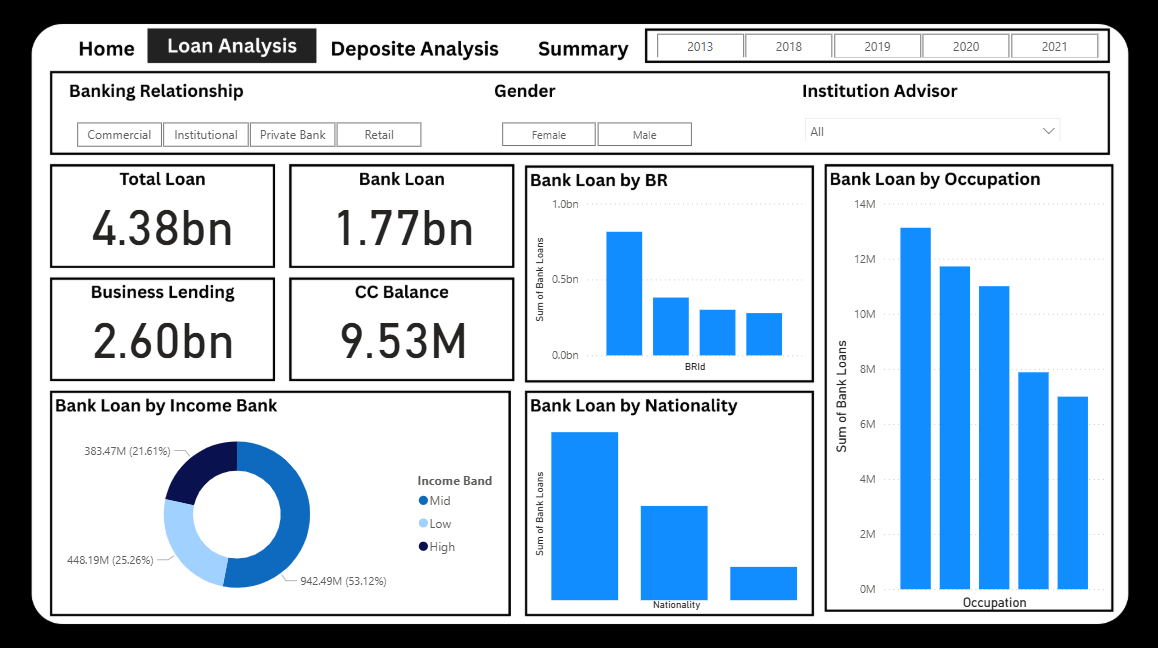

Layout of this report page (visuals, bound fields, positions):
{"tool":"powerbi","page":{"name":"Loan Analysis","canvas":[1280,720],"ordinal":1},"visuals":[{"type":"card","fields":{"Values":["Banking_Clients.Total Loan"]},"box":[60.3,213.5,242.5,66.4],"z":0},{"type":"card","fields":{"Values":["Sum(Banking_Clients.Bank Loans)"]},"box":[325.7,213.5,241.3,66.4],"z":1000},{"type":"card","fields":{"Values":["Sum(Banking_Clients.Business Lending)"]},"box":[61.5,339,241.3,66.4],"z":2000},{"type":"card","fields":{"Values":["Sum(Banking_Clients.Credit Card Balance)"]},"box":[325.7,339,241.3,66.4],"z":3000},{"type":"slicer","fields":{"Values":["Banking_Clients.Year of Joining"]},"box":[698.5,35,534.5,32.6],"z":4000},{"type":"donutChart","fields":{"Category":["Banking_Clients.Income Band"],"Y":["Sum(Banking_Clients.Bank Loans)"]},"box":[60.4,459.7,506.3,219.6],"z":5000},{"type":"clusteredColumnChart","fields":{"Category":["Banking_Clients.BRId"],"Y":["Sum(Banking_Clients.Bank Loans)"]},"box":[585.9,214.1,303.3,204.5],"z":6000},{"type":"clusteredColumnChart","fields":{"Category":["Banking_Clients.Nationality"],"Y":["Sum(Banking_Clients.Bank Loans)"]},"box":[586.3,459.7,302.8,219.6],"z":7000},{"type":"clusteredColumnChart","fields":{"Category":["Banking_Clients.Occupation"],"Y":["Sum(Banking_Clients.Bank Loans)"]},"box":[913.9,214.1,307.4,465.2],"z":8000},{"type":"actionButton","box":[358.1,34.3,208.6,39.8],"z":9000},{"type":"actionButton","box":[79.6,34.3,82.3,39.8],"z":10000},{"type":"actionButton","box":[588.7,35.7,109.8,39.8],"z":11000},{"type":"slicer","fields":{"Values":["Banking_Clients.BRId"]},"box":[61.5,131.5,428.3,36.2],"z":12000},{"type":"slicer","fields":{"Values":["Banking_Clients.GenderId"]},"box":[528.4,131.5,258.2,36.2],"z":13000},{"type":"slicer","fields":{"Values":["Banking_Clients.IAId"]},"box":[877.1,123.1,300.4,36.2],"z":14000}]}

Visuals, with their boxes in screenshot pixels (x1, y1, x2, y2), scaled from the page's 1280x720 canvas onto the 1158x648 screenshot:
card - Banking_Clients.Total Loan: <region>55, 192, 274, 252</region>
card - Sum(Banking_Clients.Bank Loans): <region>295, 192, 513, 252</region>
card - Sum(Banking_Clients.Business Lending): <region>56, 305, 274, 365</region>
card - Sum(Banking_Clients.Credit Card Balance): <region>295, 305, 513, 365</region>
slicer - Banking_Clients.Year of Joining: <region>632, 32, 1115, 61</region>
donutChart - Banking_Clients.Income Band x Sum(Banking_Clients.Bank Loans): <region>55, 414, 513, 611</region>
clusteredColumnChart - Banking_Clients.BRId x Sum(Banking_Clients.Bank Loans): <region>530, 193, 804, 377</region>
clusteredColumnChart - Banking_Clients.Nationality x Sum(Banking_Clients.Bank Loans): <region>530, 414, 804, 611</region>
clusteredColumnChart - Banking_Clients.Occupation x Sum(Banking_Clients.Bank Loans): <region>827, 193, 1105, 611</region>
actionButton: <region>324, 31, 513, 67</region>
actionButton: <region>72, 31, 146, 67</region>
actionButton: <region>533, 32, 632, 68</region>
slicer - Banking_Clients.BRId: <region>56, 118, 443, 151</region>
slicer - Banking_Clients.GenderId: <region>478, 118, 712, 151</region>
slicer - Banking_Clients.IAId: <region>794, 111, 1065, 143</region>
